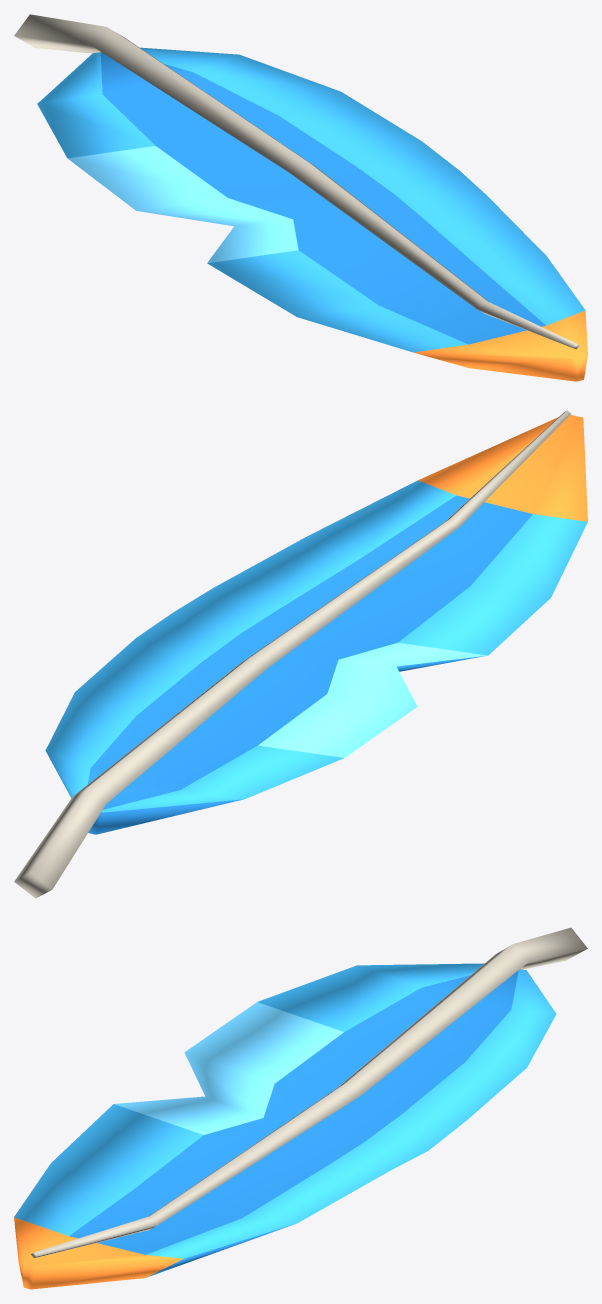
File: blue-feather.glb
The picture shows the model from 3 angles, top to bottom: view 1: azimuth 30°, elevation 25°; view 2: azimuth 150°, elevation 25°; view 3: azimuth 330°, elevation 25°; orthographic projection.
Parts seen in each view (by area): view 1: blue-feather; view 2: blue-feather; view 3: blue-feather.
Boxes of the visible parts, box(x1,y1,x2,y2) form: blue-feather: box(14, 14, 587, 381); blue-feather: box(14, 410, 587, 898); blue-feather: box(14, 927, 587, 1289).
Size of the model in its own units: 0.3 by 0.1 by 1.
